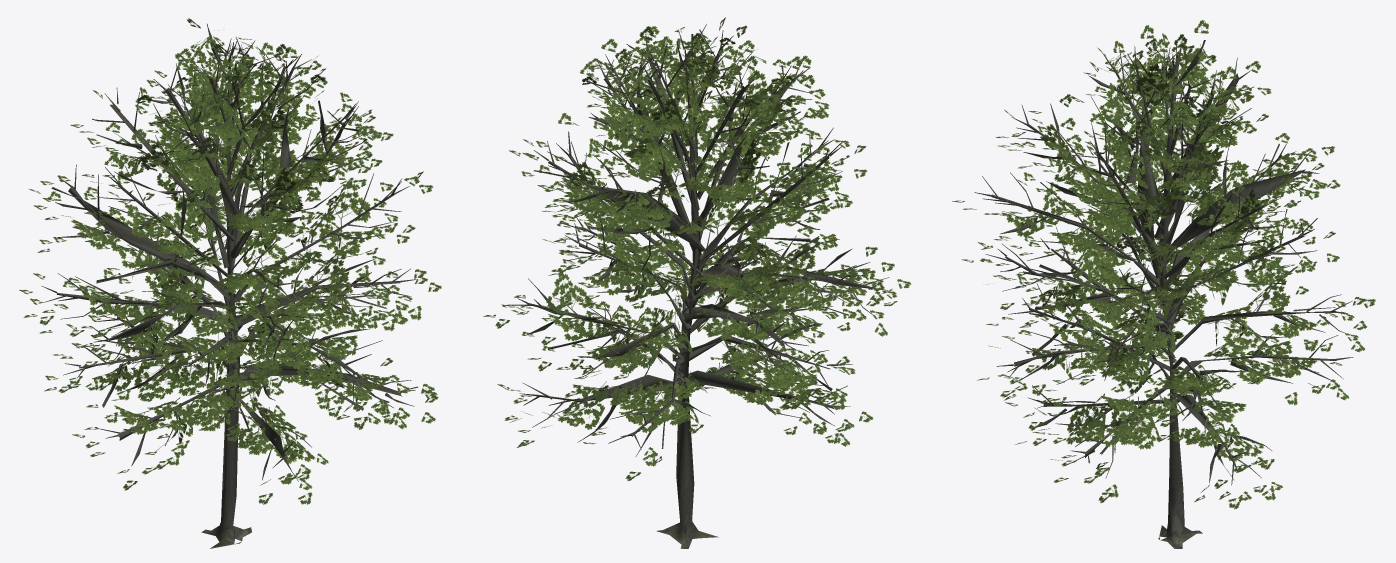
Rendered from tree_004.glb.
The picture shows the model from 3 angles, left to right: view 1: azimuth 30°, elevation 25°; view 2: azimuth 150°, elevation 25°; view 3: azimuth 270°, elevation 25°; orthographic projection. The views are drawn at different scales.
Visible parts, largest first — view 1: Tree_023; view 2: Tree_023; view 3: Tree_023.
Part boxes in pixels (box(x1,y1,x2,y2)): Tree_023: box(19, 18, 441, 548); Tree_023: box(483, 17, 911, 548); Tree_023: box(952, 20, 1375, 548).
Bounding box in the file's own units: 5.6 × 7.48 × 5.78.
2 materials, 2 textured.
